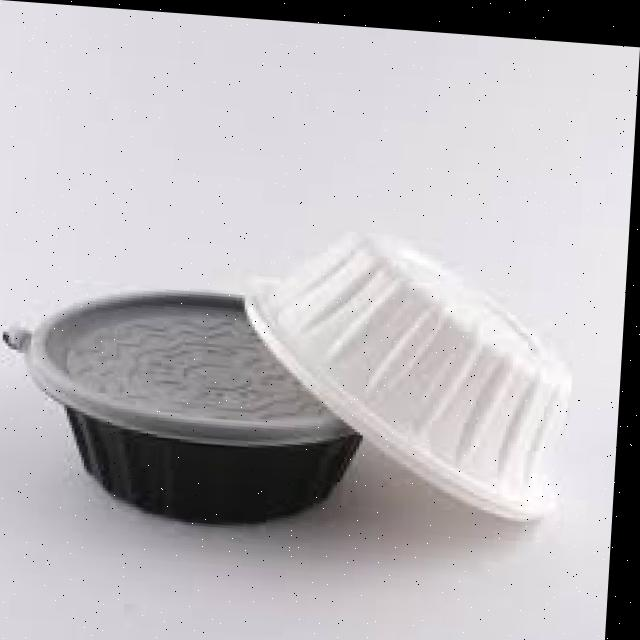disposable: (237, 188, 599, 550), (0, 263, 395, 547)
